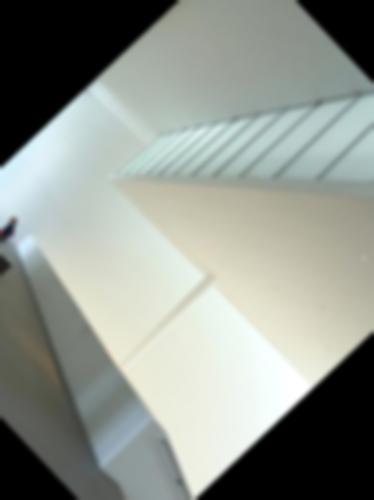Escaleras: (80, 418, 213, 500)
